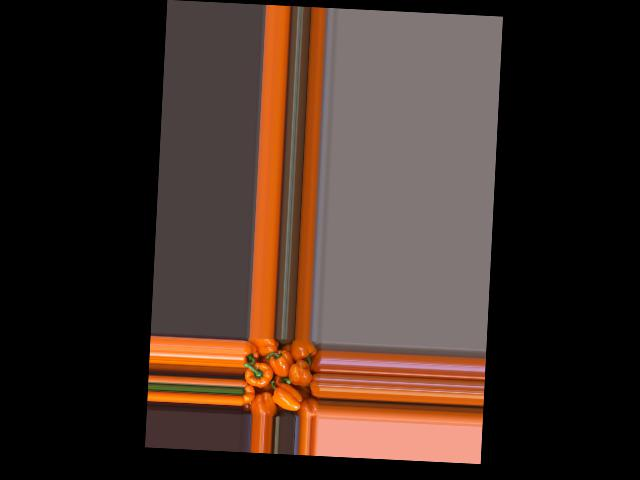bell_pepper: (304, 347, 322, 378)
